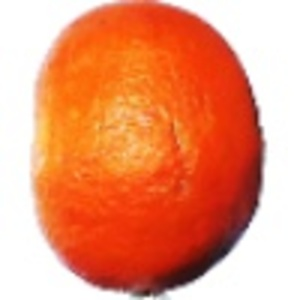tangerina: (29, 1, 268, 300)
